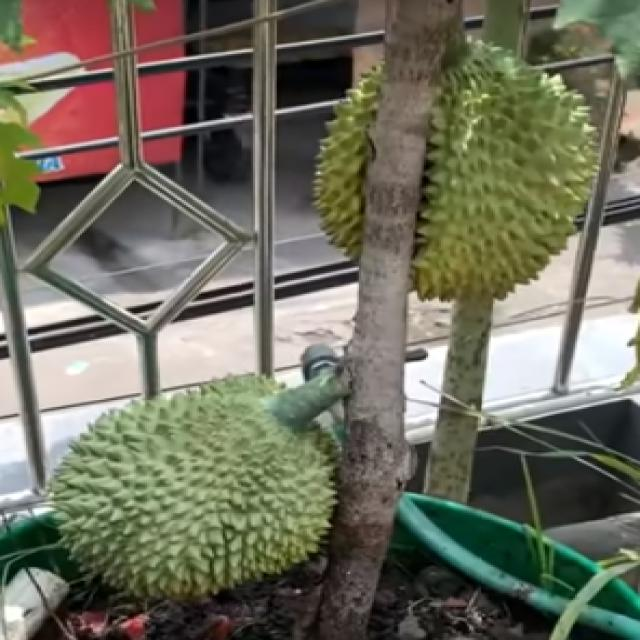immature: (312, 21, 602, 313), (43, 369, 344, 593)
